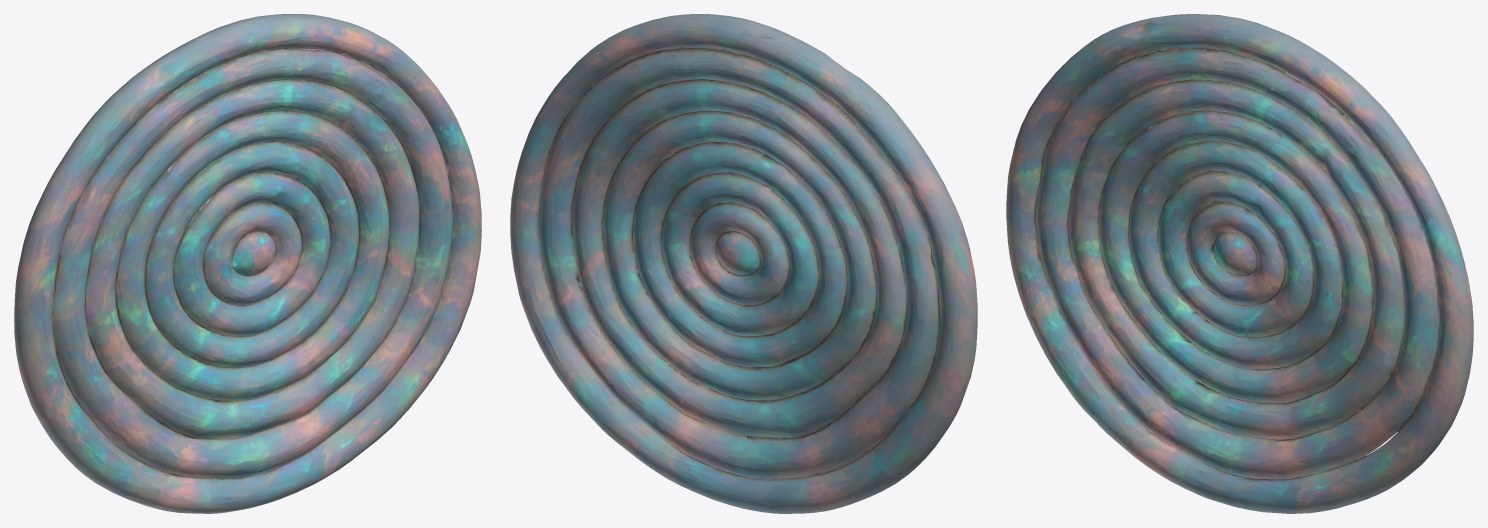
3 renders of one model, left to right at view 1: azimuth 30°, elevation 25°; view 2: azimuth 150°, elevation 25°; view 3: azimuth 330°, elevation 25°, orthographic.
Visible parts, largest first — view 1: Mesh_0; view 2: Mesh_0; view 3: Mesh_0.
Part boxes in pixels (x1=…): Mesh_0: x1=14, y1=14, x2=481, y2=513; Mesh_0: x1=510, y1=14, x2=977, y2=513; Mesh_0: x1=1006, y1=14, x2=1473, y2=513.
Bounding box in the file's own units: 1.9 × 1.9 × 0.1653.
1 material, 1 textured.
